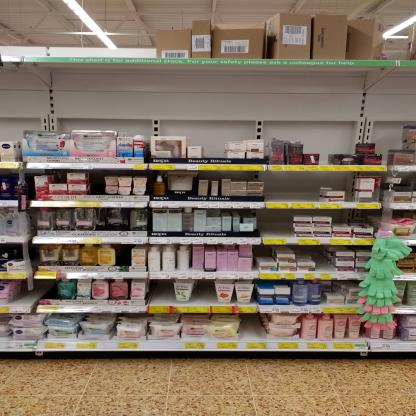Void: (266, 173, 322, 203), (260, 208, 293, 238), (22, 280, 57, 306), (334, 210, 377, 228), (242, 312, 270, 338), (297, 246, 332, 264), (152, 278, 174, 303), (119, 244, 134, 274), (199, 281, 213, 305)
